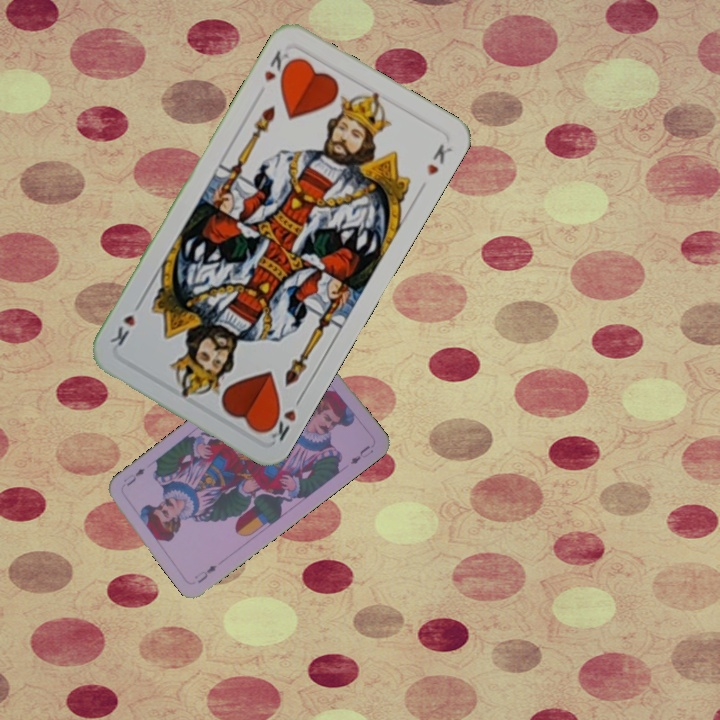EU: (190, 561, 220, 586)
HK: (260, 391, 306, 444), (260, 46, 296, 86)
